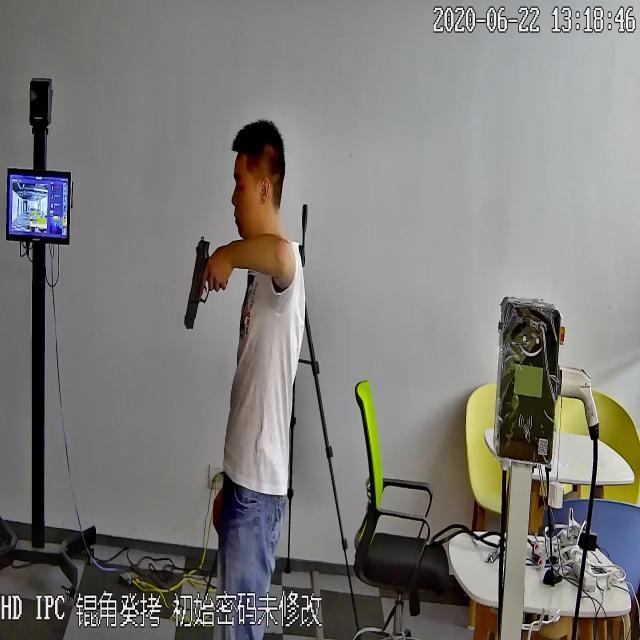gun-knife-thesis - v11 Yolov5 augmented: (184, 235, 232, 326)
